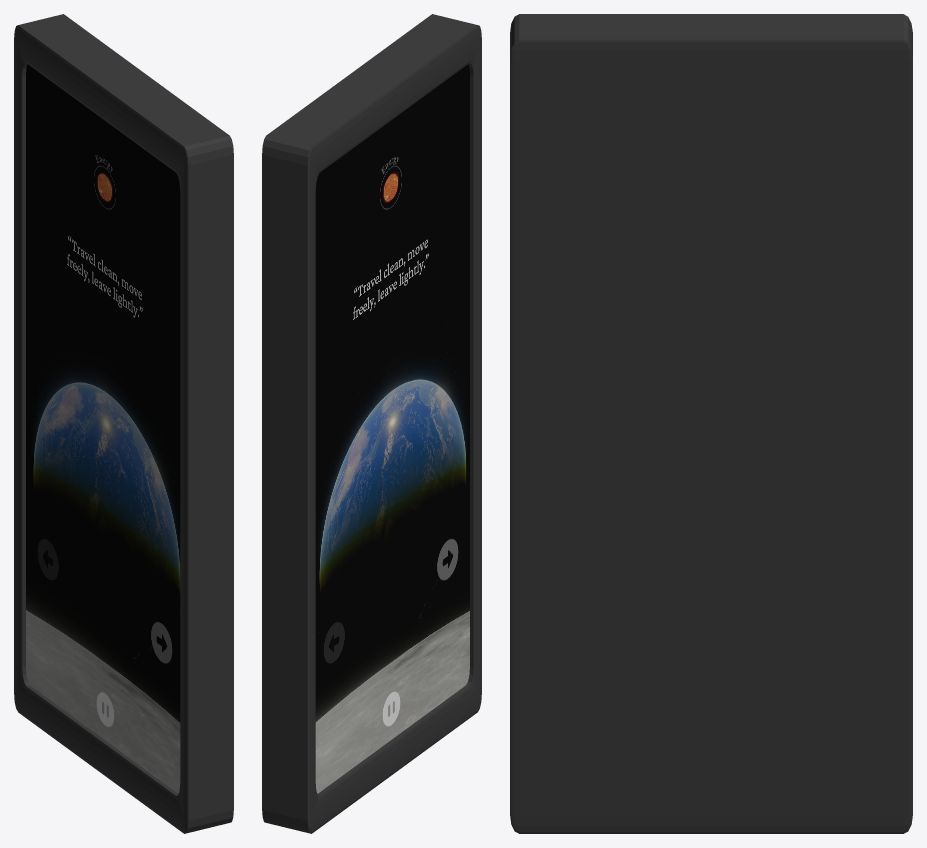
File: m-tora.glb
The picture shows the model from 3 angles, left to right: view 1: azimuth 30°, elevation 25°; view 2: azimuth 150°, elevation 25°; view 3: azimuth 270°, elevation 25°; orthographic projection. The views are drawn at different scales.
Visible parts, largest first — view 1: tora, Cube; view 2: tora, Cube; view 3: Cube.
Boxes of the visible parts, x1,y1,x2,y2 form: tora: (26,64,180,793); Cube: (14,14,233,833); tora: (315,64,469,793); Cube: (262,14,481,833); Cube: (510,14,912,833).
Bounding box in the file's own units: 0.1454 × 2 × 0.9193.
Materials: 2 (1 with a texture image).
